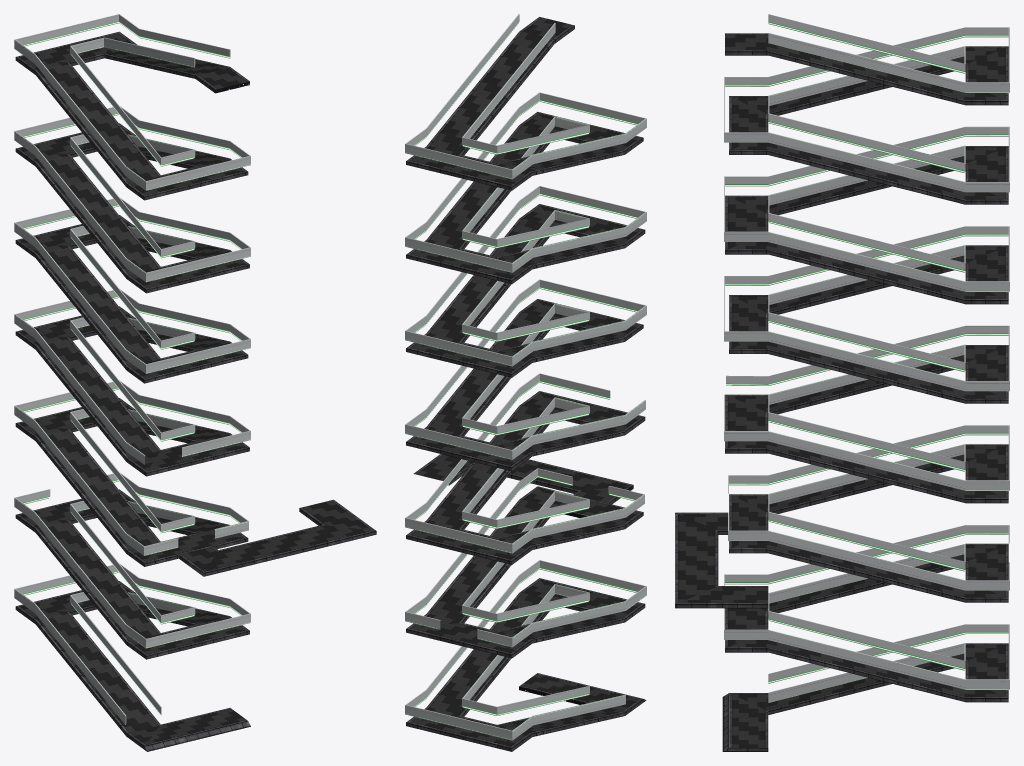
File: entity14746.gltf
The picture shows the model from 3 angles, left to right: view 1: azimuth 30°, elevation 25°; view 2: azimuth 150°, elevation 25°; view 3: azimuth 270°, elevation 25°; orthographic projection. The views are drawn at different scales.
Parts seen in each view (by area): view 1: node_Exhibit_Str_Stairs_3_Art, node_Exhibit_Str_Stairs_3_Railing; view 2: node_Exhibit_Str_Stairs_3_Art, node_Exhibit_Str_Stairs_3_Railing; view 3: node_Exhibit_Str_Stairs_3_Art, node_Exhibit_Str_Stairs_3_Railing.
Boxes of the visible parts, left/top/right/bottom form: node_Exhibit_Str_Stairs_3_Art: left=15, top=31, right=376, bottom=751; node_Exhibit_Str_Stairs_3_Railing: left=14, top=14, right=250, bottom=724; node_Exhibit_Str_Stairs_3_Art: left=406, top=17, right=646, bottom=751; node_Exhibit_Str_Stairs_3_Railing: left=405, top=14, right=646, bottom=740; node_Exhibit_Str_Stairs_3_Art: left=675, top=33, right=1008, bottom=751; node_Exhibit_Str_Stairs_3_Railing: left=724, top=14, right=1009, bottom=702.
Size of what is drawn, in the model's own units: 12.09 by 36.72 by 15.49.
Materials: 2 (2 with a texture image).
